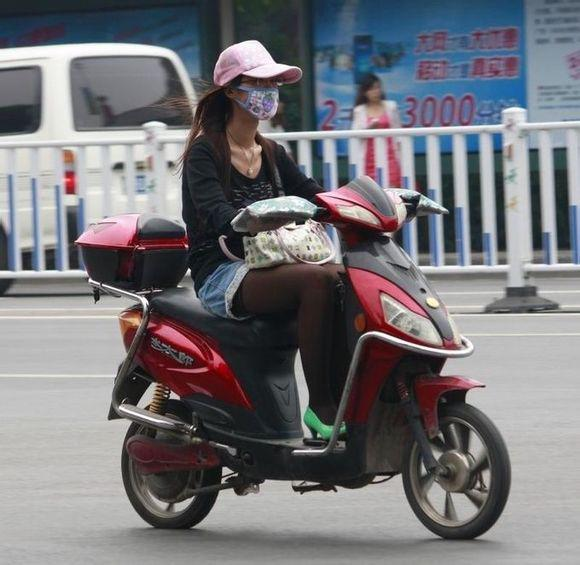OK: (242, 74, 285, 117)
